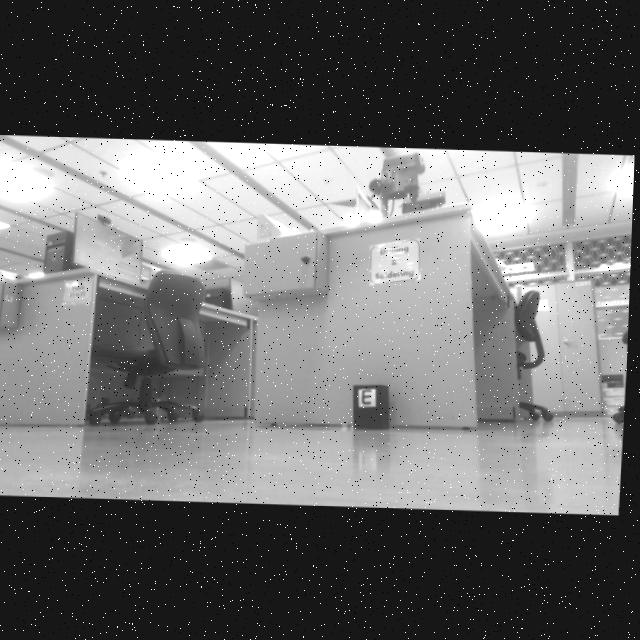E: (365, 388, 374, 404)
